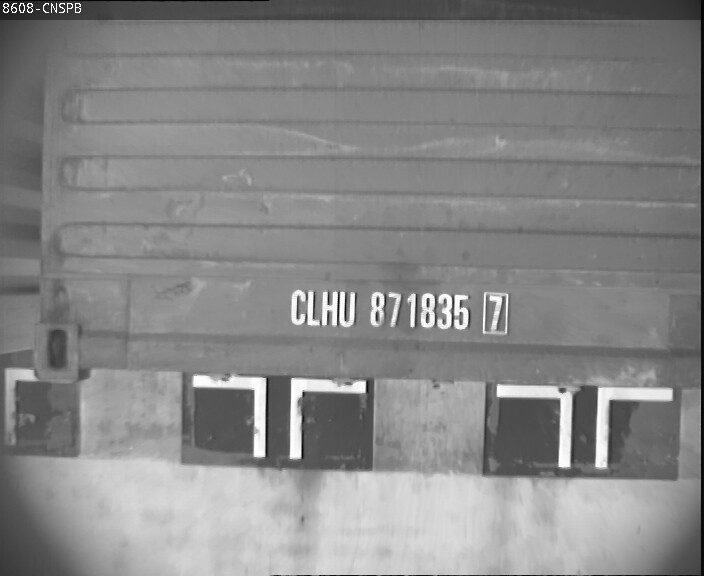groundmarker_1: (496, 384, 673, 467), (191, 374, 363, 457)
